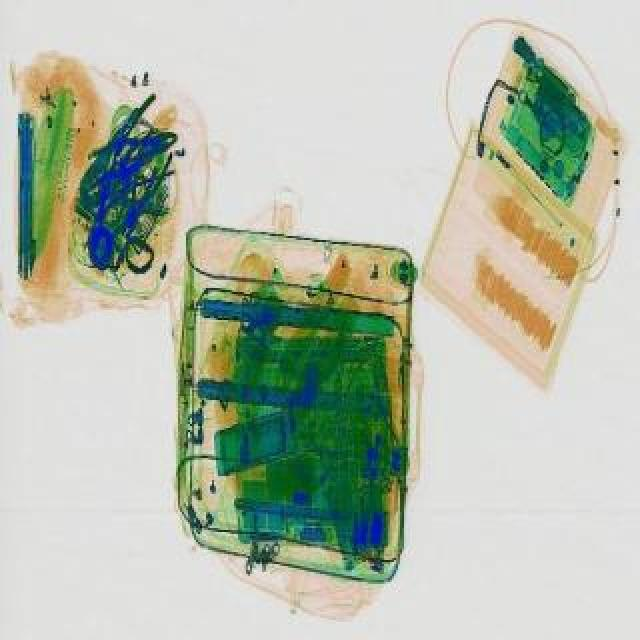wrench: (62, 96, 186, 216), (86, 122, 186, 186), (110, 148, 174, 246)
